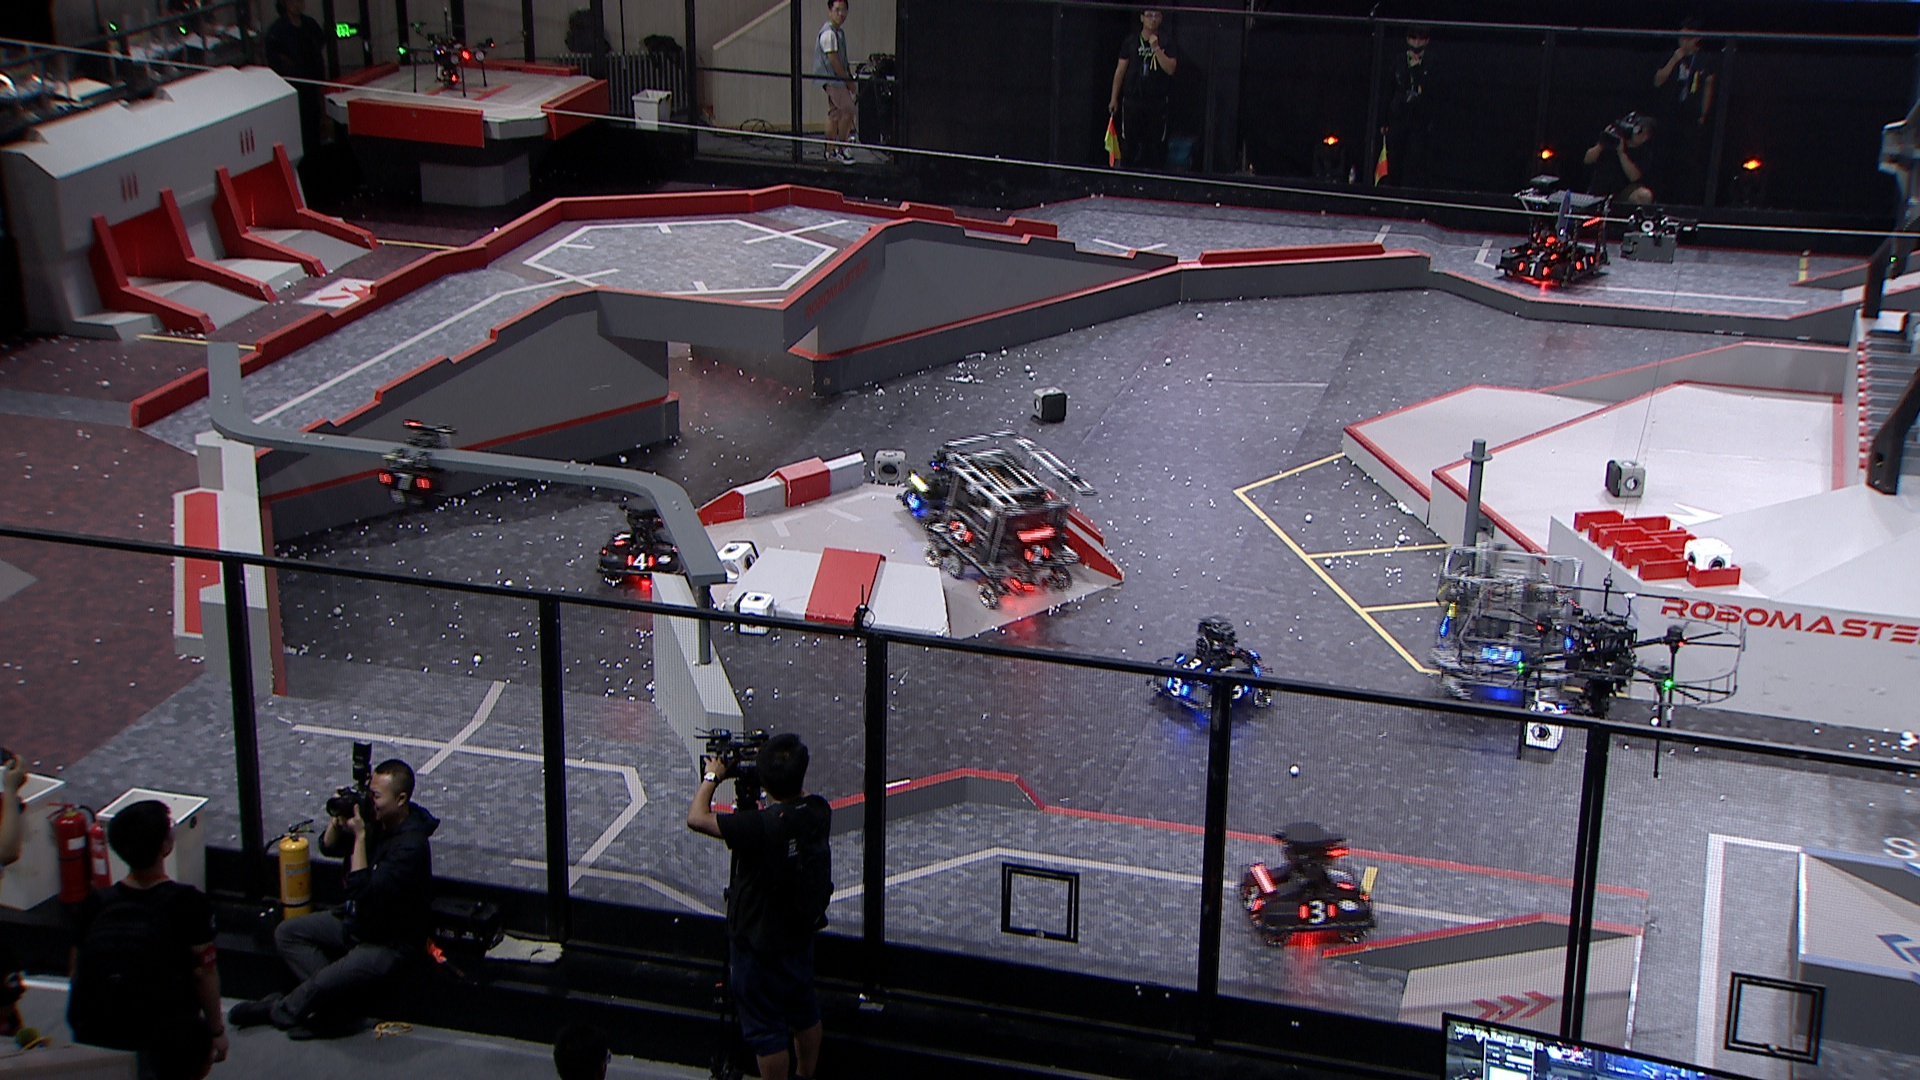armor: (1320, 861, 1361, 891), (1296, 897, 1337, 926), (1481, 644, 1524, 669), (380, 471, 430, 491), (1240, 882, 1266, 916), (1021, 542, 1054, 567), (1174, 654, 1211, 675), (945, 520, 975, 542), (1515, 258, 1549, 277), (624, 553, 657, 571), (1167, 676, 1191, 699), (1523, 245, 1561, 258), (611, 529, 633, 549), (1572, 255, 1596, 272), (903, 489, 920, 510), (1230, 683, 1250, 700)
car: (918, 429, 1098, 608), (1429, 546, 1588, 712), (1236, 818, 1378, 944), (1145, 616, 1276, 723), (1491, 175, 1613, 289), (593, 493, 692, 589), (895, 446, 992, 537)
watcher: (375, 418, 460, 517)
